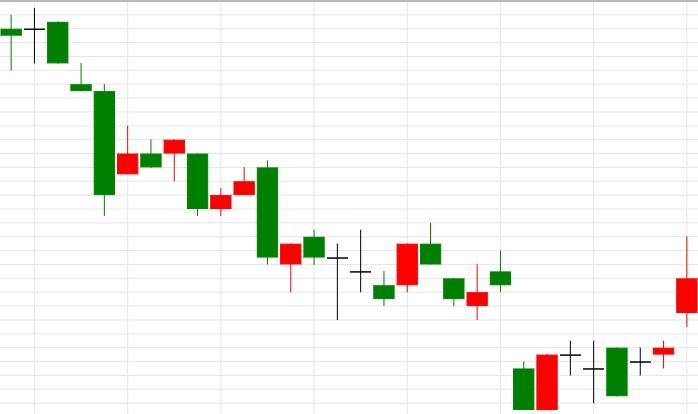bearish_engulfing_fall: (186, 152, 279, 265)
bullish_engulfing_rise: (419, 222, 558, 411)
